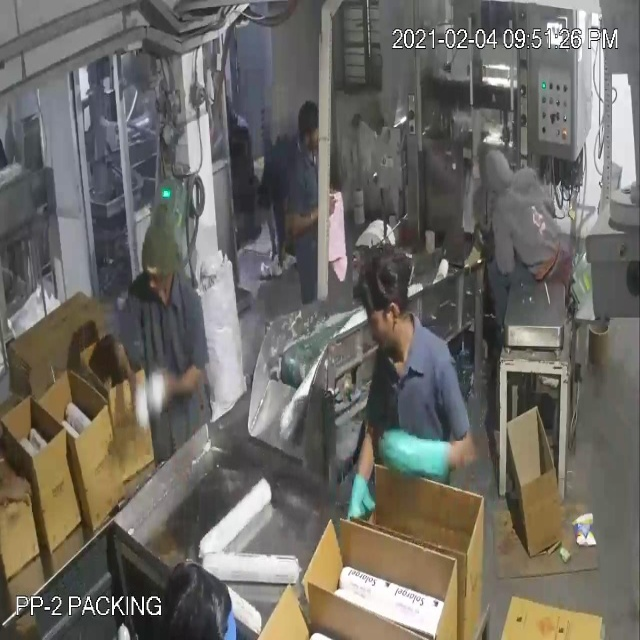Guantes: (380, 412, 460, 498), (342, 457, 380, 534)
Sin_guantes: (87, 324, 147, 410), (149, 350, 218, 407), (287, 183, 340, 238)
